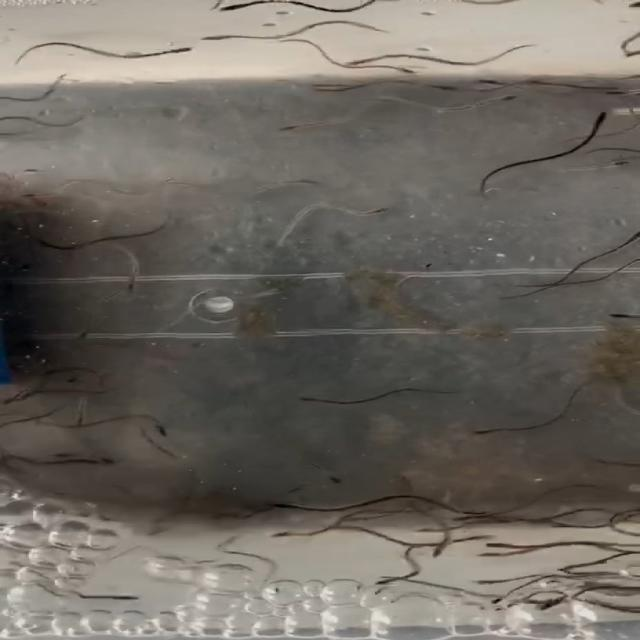active_glass_eel: (86, 587, 148, 607), (134, 522, 182, 544), (354, 56, 412, 72), (19, 232, 70, 250), (370, 575, 420, 591), (472, 570, 516, 588), (536, 597, 582, 614), (488, 539, 536, 555), (468, 88, 516, 104), (66, 322, 98, 346), (282, 392, 316, 414), (449, 502, 483, 524), (264, 122, 316, 136), (580, 105, 628, 120), (469, 548, 505, 568), (261, 527, 309, 541), (598, 162, 638, 178), (468, 419, 500, 439), (491, 597, 523, 617), (519, 558, 572, 570), (480, 593, 514, 611), (475, 73, 513, 89), (62, 412, 90, 433), (606, 305, 640, 322), (268, 495, 298, 514), (394, 532, 429, 548), (372, 200, 406, 216), (422, 546, 456, 562), (312, 78, 356, 90), (8, 190, 44, 204), (150, 422, 179, 439), (89, 454, 119, 470), (342, 55, 372, 71), (320, 476, 354, 490), (115, 274, 139, 293), (191, 34, 235, 44), (601, 85, 640, 96), (162, 44, 196, 56), (618, 228, 640, 244), (216, 0, 243, 12), (16, 165, 42, 177), (301, 176, 327, 187)
